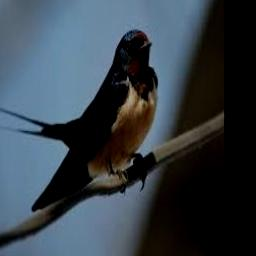Swallow: (0, 28, 157, 212)
